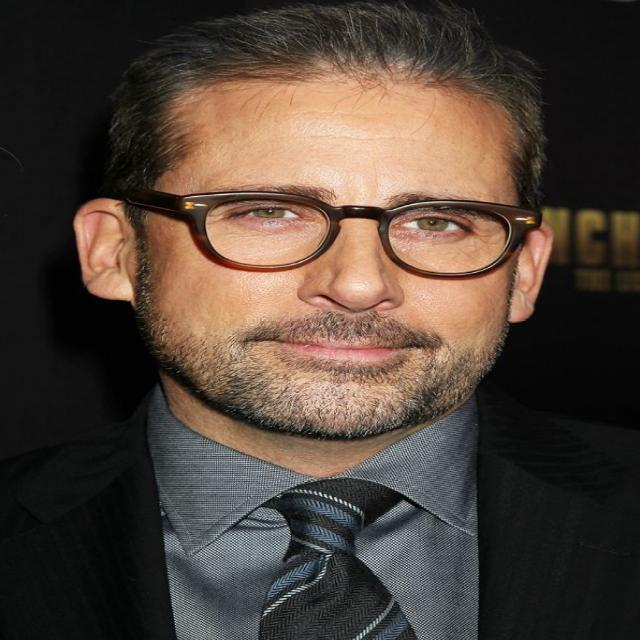Glasses: (141, 183, 528, 284)
